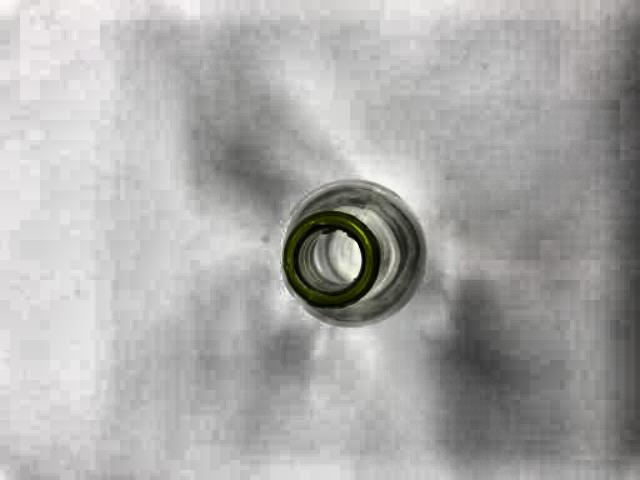Bottles: (278, 157, 436, 349)
